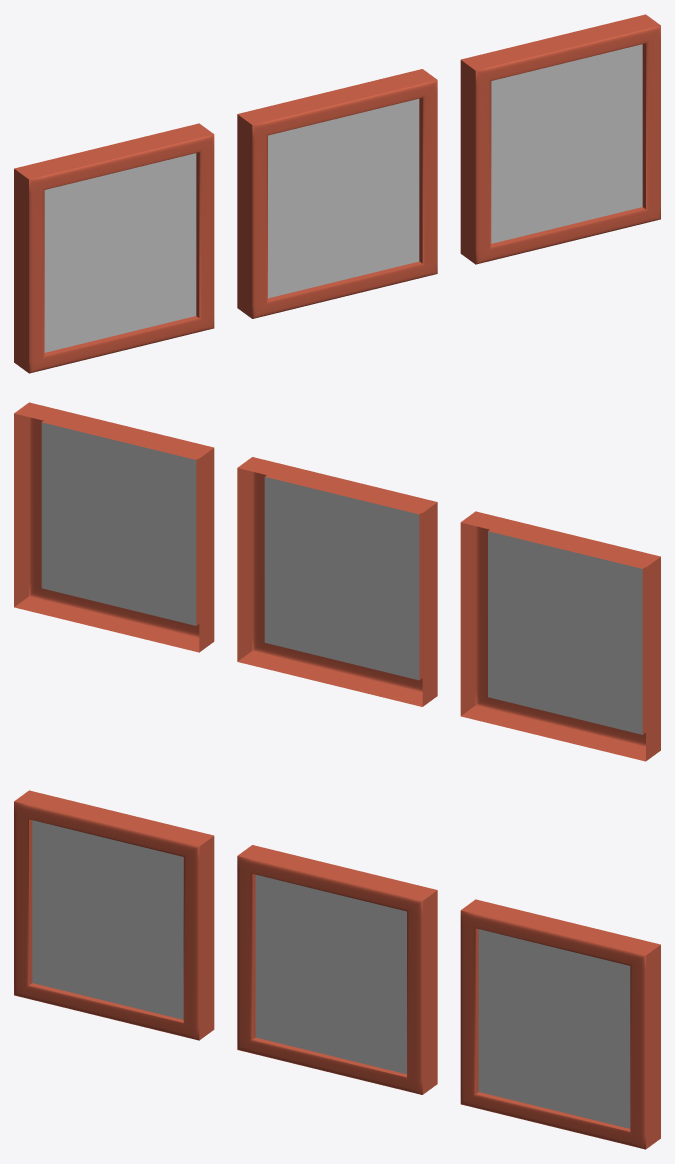
The model's file is paintings.fbx.
The picture shows the model from 3 angles, top to bottom: view 1: azimuth 30°, elevation 25°; view 2: azimuth 150°, elevation 25°; view 3: azimuth 330°, elevation 25°; orthographic projection.
Visible parts, largest first — view 1: Cube.013; view 2: Cube.013; view 3: Cube.013.
Part boxes in pixels (box(x1,y1,x2,y2)): Cube.013: box(14, 14, 660, 373); Cube.013: box(14, 402, 660, 761); Cube.013: box(14, 790, 660, 1149).
Bounding box in the file's own units: 849 × 249 × 36.86.
